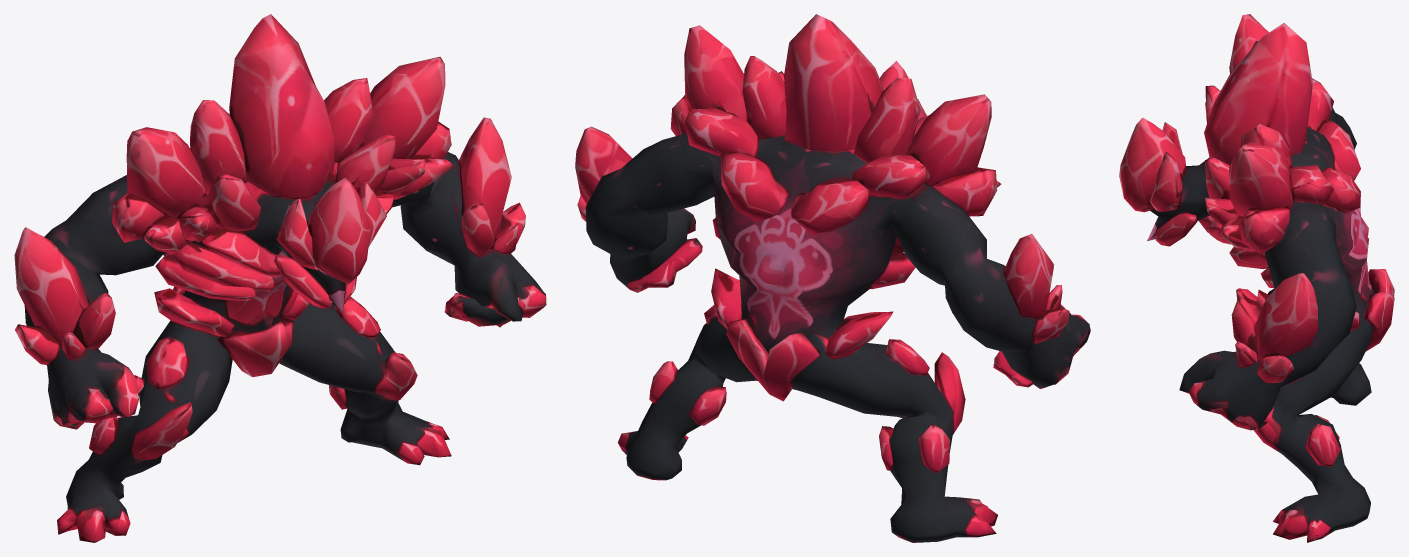
3 renders of one model, left to right at view 1: azimuth 30°, elevation 25°; view 2: azimuth 150°, elevation 25°; view 3: azimuth 270°, elevation 25°, orthographic. The views are drawn at different scales.
Size of the model in its own units: 1 by 0.9278 by 0.5304.
Materials: 1 (1 with a texture image).
